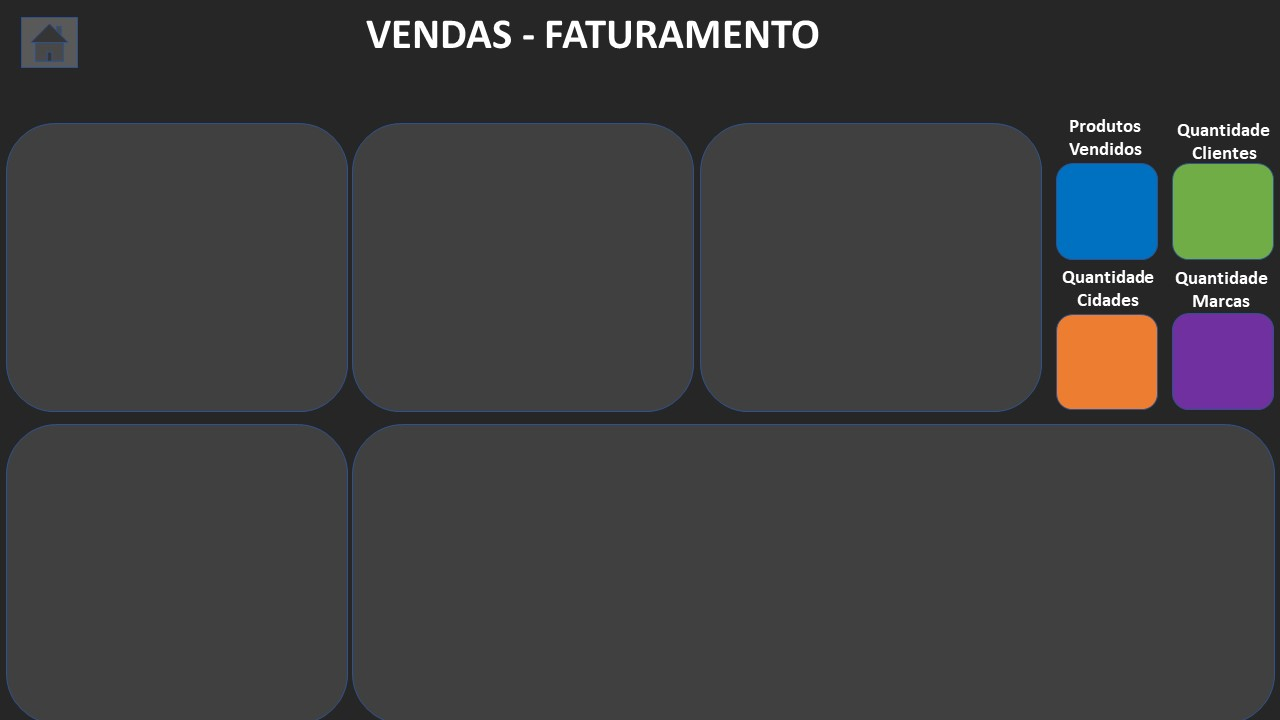

The page's visual inventory and layout, read from the dashboard file:
{"tool":"powerbi","page":{"name":"FATURAMENTO","canvas":[1280,720],"ordinal":2},"visuals":[{"type":"card","fields":{"Values":["Count(Base_Qtd_Vendas.ID_PRODUTO)"]},"box":[1060.2,160.2,93.5,83.6],"z":0},{"type":"card","fields":{"Values":["Count(Base_Qtd_Vendas.COD_CLIENTE)"]},"box":[1170.7,161.6,107.7,83.6],"z":1000},{"type":"card","fields":{"Values":["Count(Base_Qtd_Vendas.LOJA)"]},"box":[1063,310.4,85,76.5],"z":2000},{"type":"card","fields":{"Values":["Count(Base_Qtd_Vendas.Marca)"]},"box":[1180.6,311.8,85,76.5],"z":3000},{"type":"clusteredColumnChart","fields":{"Category":["Base_Qtd_Vendas.REGIAO"],"Y":["Sum(Base_Qtd_Vendas.TOTAL_VENDAS)"]},"box":[0,109.1,348.7,306.1],"z":4000},{"type":"clusteredColumnChart","fields":{"Y":["Sum(Base_Qtd_Vendas.TOTAL_VENDAS)"],"Category":["Base_Qtd_Vendas.LOJA"]},"box":[348.7,413.9,929.8,306.1],"z":5000},{"type":"columnChart","fields":{"Y":["Sum(Base_Qtd_Vendas.TOTAL_VENDAS)"],"Category":["Base_Qtd_Vendas.Ano"]},"box":[372.8,103.5,313.2,314.6],"z":6000},{"type":"columnChart","fields":{"Y":["Sum(Base_Qtd_Vendas.TOTAL_VENDAS)"],"Category":["Base_Produto.CATEGORIA"]},"box":[700.2,120.5,344.4,297.6],"z":7000},{"type":"pieChart","fields":{"Category":["Base_Qtd_Vendas.TIPO_CLIENTE"],"Y":["Sum(Base_Qtd_Vendas.TOTAL_VENDAS)"]},"box":[14.2,443.6,481.9,276.4],"z":8000},{"type":"actionButton","box":[21.3,1.4,58.1,62.4],"z":9000},{"type":"shape","box":[96.4,76.5,167.2,45.4],"z":10000},{"type":"shape","box":[440.8,76.5,167.2,45.4],"z":11000},{"type":"shape","box":[79.4,411,216.9,45.4],"z":12000},{"type":"shape","box":[766.8,411,216.9,45.4],"z":13000},{"type":"shape","box":[745.5,85,260.8,35.4],"z":14000},{"type":"slicer","fields":{"Values":["Base_Qtd_Vendas.Ano"]},"box":[1123.9,26.9,154.5,36.9],"z":15000},{"type":"shape","box":[1112.8,0,167.2,34],"z":16000},{"type":"shape","box":[952.4,1.4,167.2,34],"z":17000},{"type":"slicer","fields":{"Values":["Base_Qtd_Vendas.Nome do Mês"]},"box":[959.5,26.9,154.5,48.2],"z":18000}]}

Visuals, with their boxes in screenshot pixels (x1, y1, x2, y2), scaled from the page's 1280x720 canvas onto the 1280x720 screenshot:
card - Count(Base_Qtd_Vendas.ID_PRODUTO): (left=1060, top=160, right=1154, bottom=244)
card - Count(Base_Qtd_Vendas.COD_CLIENTE): (left=1171, top=162, right=1278, bottom=245)
card - Count(Base_Qtd_Vendas.LOJA): (left=1063, top=310, right=1148, bottom=387)
card - Count(Base_Qtd_Vendas.Marca): (left=1181, top=312, right=1266, bottom=388)
clusteredColumnChart - Base_Qtd_Vendas.REGIAO x Sum(Base_Qtd_Vendas.TOTAL_VENDAS): (left=0, top=109, right=349, bottom=415)
clusteredColumnChart - Sum(Base_Qtd_Vendas.TOTAL_VENDAS) x Base_Qtd_Vendas.LOJA: (left=349, top=414, right=1278, bottom=719)
columnChart - Sum(Base_Qtd_Vendas.TOTAL_VENDAS) x Base_Qtd_Vendas.Ano: (left=373, top=104, right=686, bottom=418)
columnChart - Sum(Base_Qtd_Vendas.TOTAL_VENDAS) x Base_Produto.CATEGORIA: (left=700, top=120, right=1045, bottom=418)
pieChart - Base_Qtd_Vendas.TIPO_CLIENTE x Sum(Base_Qtd_Vendas.TOTAL_VENDAS): (left=14, top=444, right=496, bottom=719)
actionButton: (left=21, top=1, right=79, bottom=64)
shape: (left=96, top=76, right=264, bottom=122)
shape: (left=441, top=76, right=608, bottom=122)
shape: (left=79, top=411, right=296, bottom=456)
shape: (left=767, top=411, right=984, bottom=456)
shape: (left=746, top=85, right=1006, bottom=120)
slicer - Base_Qtd_Vendas.Ano: (left=1124, top=27, right=1278, bottom=64)
shape: (left=1113, top=0, right=1279, bottom=34)
shape: (left=952, top=1, right=1120, bottom=35)
slicer - Base_Qtd_Vendas.Nome do Mês: (left=960, top=27, right=1114, bottom=75)
